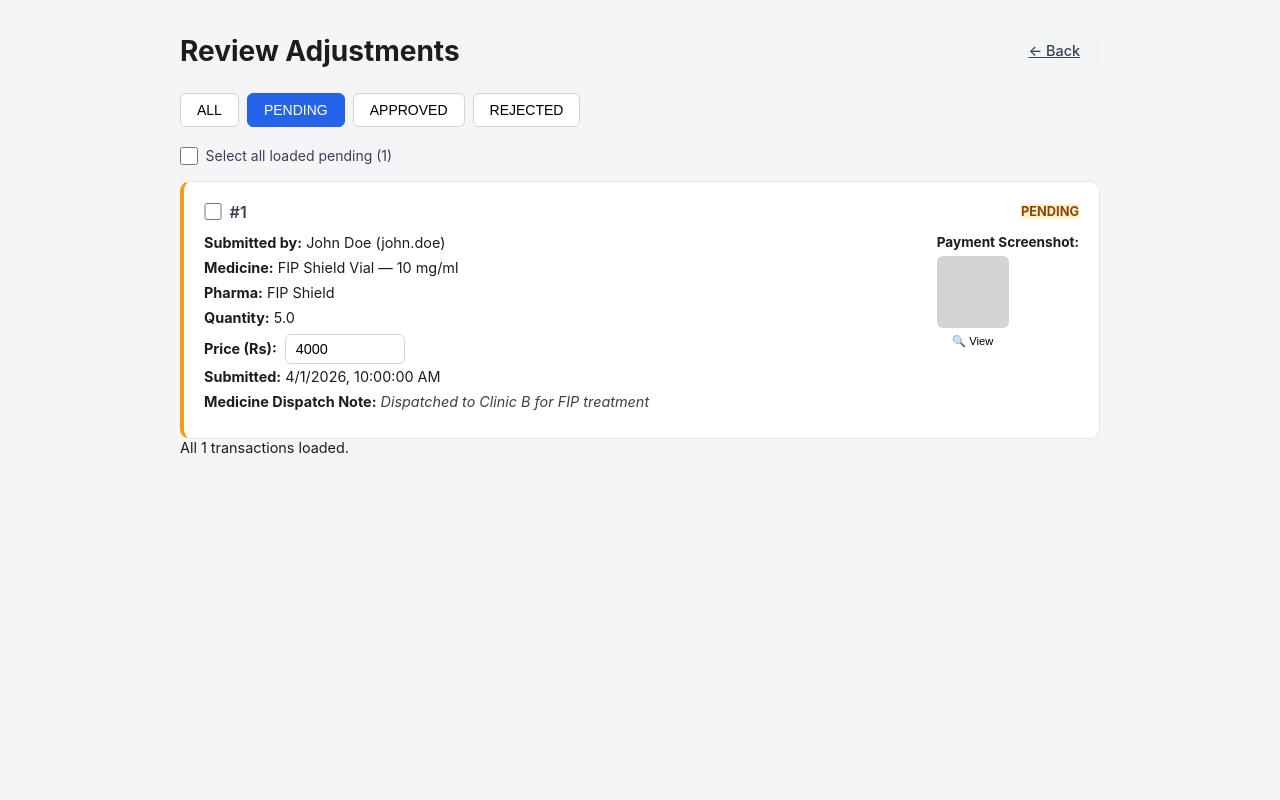
Test: ApproveTransactions — with screenshot › close button dismisses the lightbox
Step 1. Click the button with aria-label "view payment screenshot 1 of 1 for transaction #1" → (973, 302), box [937,256,1009,348]
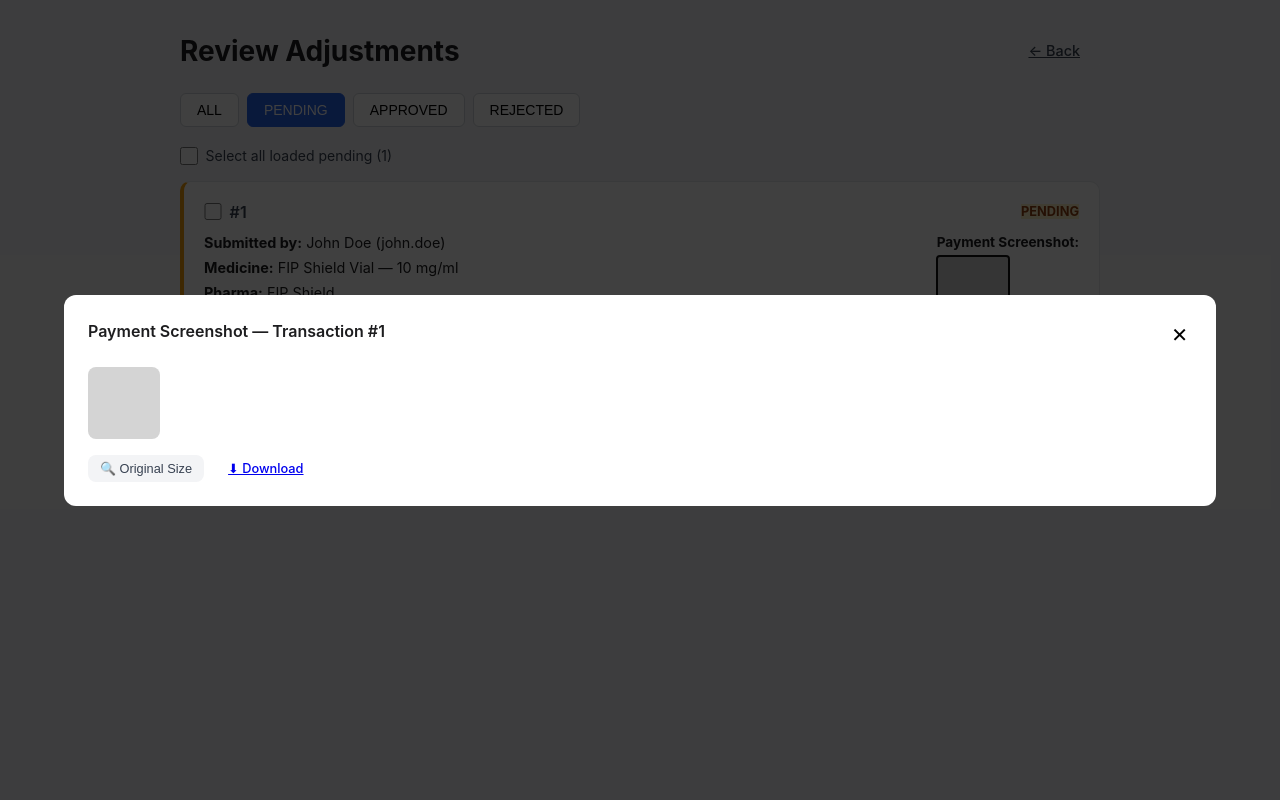
Expected: the dialog is shown
Step 2. Click the button named "close screenshot viewer" → (1180, 334), box [1167,318,1192,350]
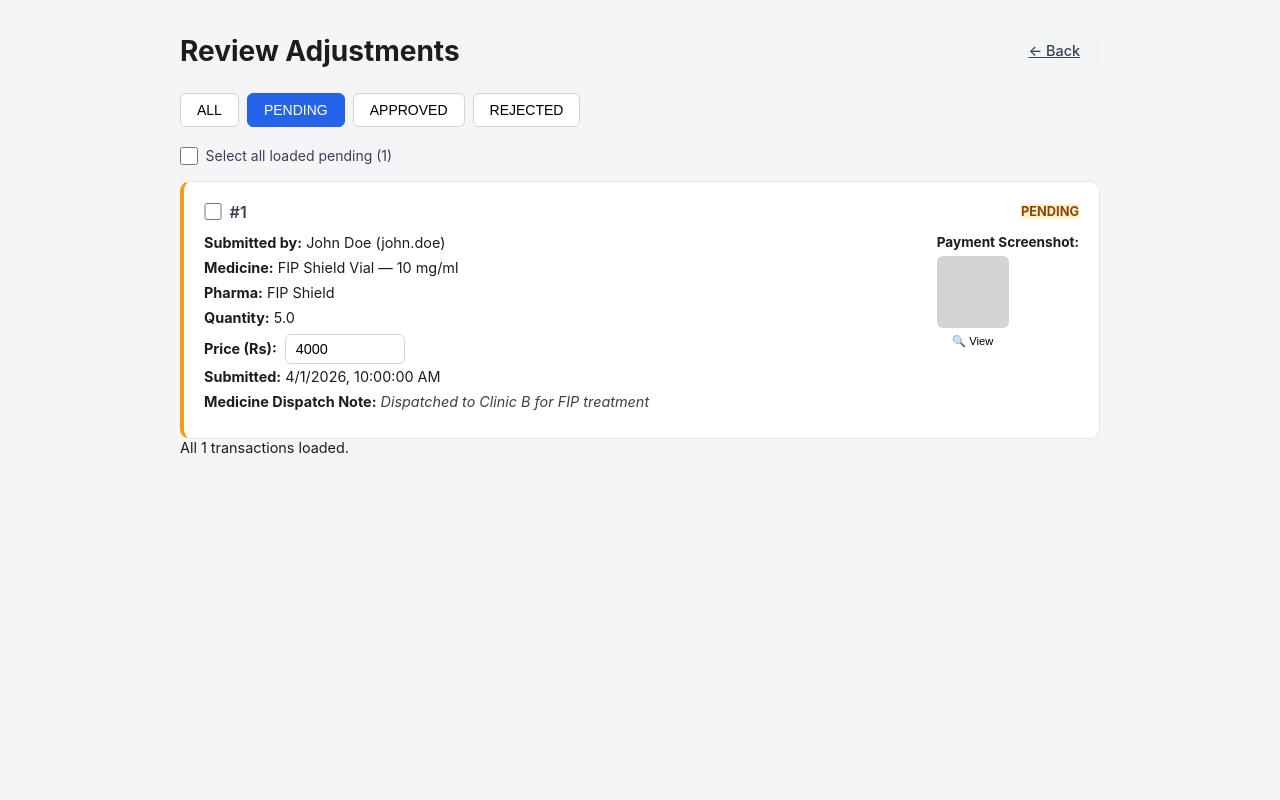
Expected: the dialog is gone
